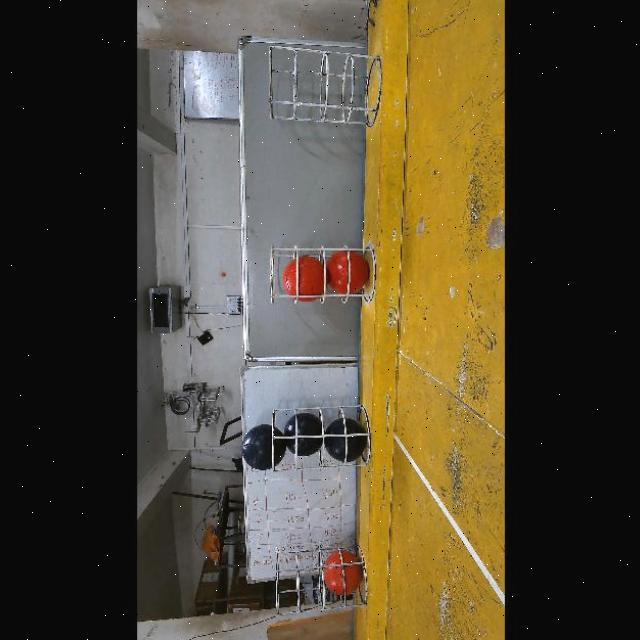P: (241, 424, 286, 470), (323, 419, 366, 463), (283, 412, 322, 457)
R: (281, 255, 324, 302), (327, 250, 369, 293), (323, 549, 362, 595)
S: (262, 240, 386, 304), (268, 56, 380, 124), (268, 407, 374, 475), (272, 549, 370, 611)
